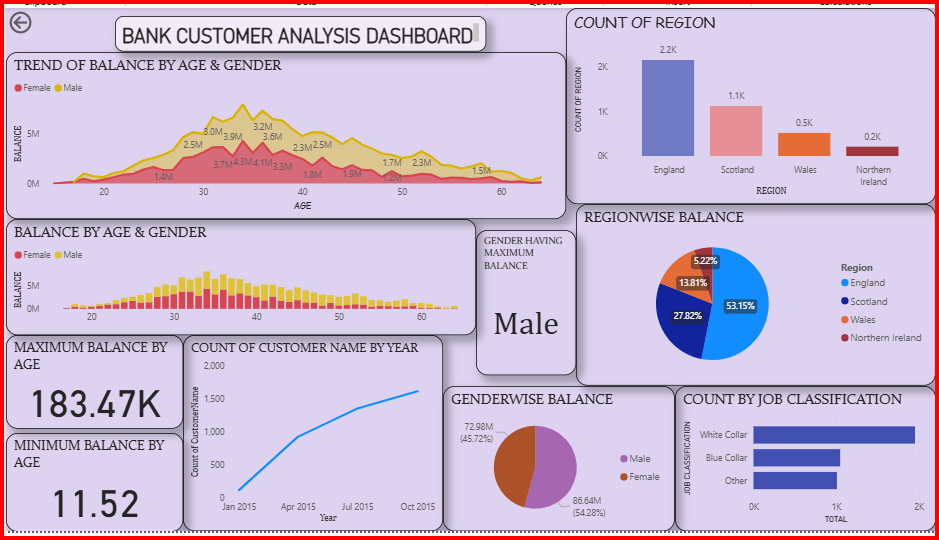

Layout of this report page (visuals, bound fields, positions):
{"tool":"powerbi","page":{"name":"Page 1","canvas":[1280,720],"ordinal":0},"visuals":[{"type":"textbox","box":[150,11.4,511.4,48.6],"z":0},{"type":"actionButton","box":[0,0,100,40],"z":1000},{"type":"stackedAreaChart","title":"TREND OF BALANCE BY AGE & GENDER","fields":{"Category":["P6-UK-Bank-Customers.Age"],"Y":["Sum(P6-UK-Bank-Customers.Balance)"],"Series":["P6-UK-Bank-Customers.Gender"]},"box":[0,60.5,771,230.1],"z":2000},{"type":"columnChart","title":"BALANCE BY AGE & GENDER","fields":{"Category":["P6-UK-Bank-Customers.Age"],"Series":["P6-UK-Bank-Customers.Gender"],"Y":["Sum(P6-UK-Bank-Customers.Balance)"]},"box":[0,290.4,646.9,159.7],"z":3000},{"type":"card","title":"MINIMUM BALANCE BY AGE","fields":{"Values":["P6-UK-Bank-Customers.Min Balance by Age"]},"box":[0,584.9,243.6,136.3],"z":4000},{"type":"pieChart","title":"REGIONWISE BALANCE","fields":{"Category":["P6-UK-Bank-Customers.Region"],"Y":["Sum(P6-UK-Bank-Customers.Balance)"]},"box":[784.5,269.8,495.5,250.5],"z":5000},{"type":"pieChart","title":"GENDERWISE BALANCE","fields":{"Category":["P6-UK-Bank-Customers.Gender"],"Y":["Sum(P6-UK-Bank-Customers.Balance)"]},"box":[601.4,520.7,319.2,199.9],"z":6000},{"type":"barChart","title":"COUNT BY JOB CLASSIFICATION","fields":{"Category":["P6-UK-Bank-Customers.Job Classification"],"Y":["P6-UK-Bank-Customers.TOTAL"]},"box":[920.5,520.7,359.5,199.9],"z":7000},{"type":"columnChart","title":"COUNT OF REGION","fields":{"Category":["P6-UK-Bank-Customers.Region"],"Y":["CountNonNull(P6-UK-Bank-Customers.Region)"]},"box":[770.8,0,509.2,269.8],"z":8000},{"type":"card","title":"MAXIMUM BALANCE BY AGE","fields":{"Values":["P6-UK-Bank-Customers.Max Balance by Age"]},"box":[0,450.1,243.6,129.4],"z":9000},{"type":"card","title":"GENDER HAVING MAXIMUM BALANCE","fields":{"Values":["Min(P6-UK-Bank-Customers.Gender)"]},"box":[646.9,305.5,137.6,199.6],"z":10000},{"type":"lineChart","title":"COUNT OF CUSTOMER NAME BY YEAR","fields":{"Category":["P6-UK-Bank-Customers.Date Joined.Variation.Date Hierarchy.Year","P6-UK-Bank-Customers.Date Joined.Variation.Date Hierarchy.Quarter","P6-UK-Bank-Customers.Date Joined.Variation.Date Hierarchy.Month","P6-UK-Bank-Customers.Date Joined.Variation.Date Hierarchy.Day"],"Y":["CountNonNull(P6-UK-Bank-Customers.CustomerName)"]},"box":[243.6,450.1,357.8,269.8],"z":11000}]}

Visuals, with their boxes in screenshot pixels (x1, y1, x2, y2), scaled from the page's 1280x720 canvas onto the 939x540 screenshot:
textbox: pyautogui.locateOnScreen(110, 9, 485, 45)
actionButton: pyautogui.locateOnScreen(0, 0, 73, 30)
"TREND OF BALANCE BY AGE & GENDER" stackedAreaChart: pyautogui.locateOnScreen(0, 45, 566, 218)
"BALANCE BY AGE & GENDER" columnChart: pyautogui.locateOnScreen(0, 218, 475, 338)
"MINIMUM BALANCE BY AGE" card: pyautogui.locateOnScreen(0, 439, 179, 539)
"REGIONWISE BALANCE" pieChart: pyautogui.locateOnScreen(576, 202, 938, 390)
"GENDERWISE BALANCE" pieChart: pyautogui.locateOnScreen(441, 391, 675, 539)
"COUNT BY JOB CLASSIFICATION" barChart: pyautogui.locateOnScreen(675, 391, 938, 539)
"COUNT OF REGION" columnChart: pyautogui.locateOnScreen(565, 0, 938, 202)
"MAXIMUM BALANCE BY AGE" card: pyautogui.locateOnScreen(0, 338, 179, 435)
"GENDER HAVING MAXIMUM BALANCE" card: pyautogui.locateOnScreen(475, 229, 576, 379)
"COUNT OF CUSTOMER NAME BY YEAR" lineChart: pyautogui.locateOnScreen(179, 338, 441, 539)
